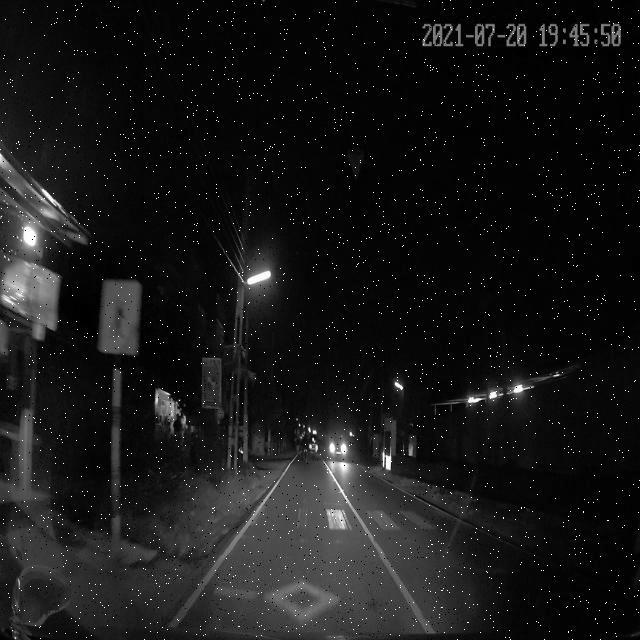diamond: (156, 556, 442, 636)
